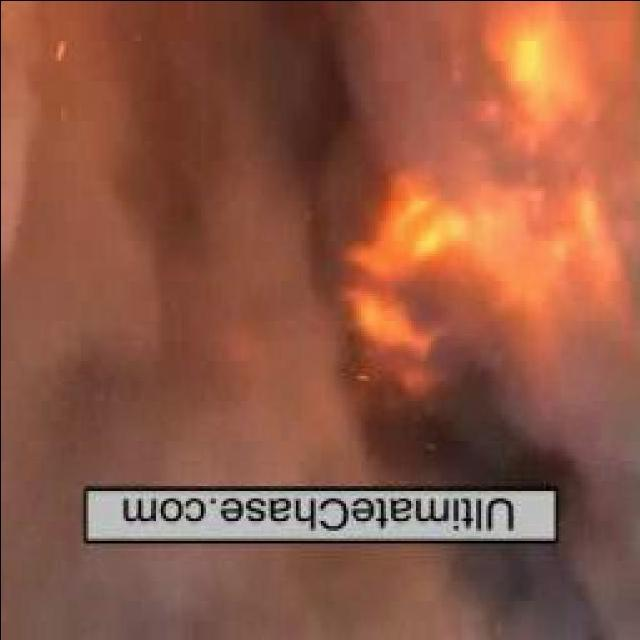Fire: (323, 0, 640, 491)
